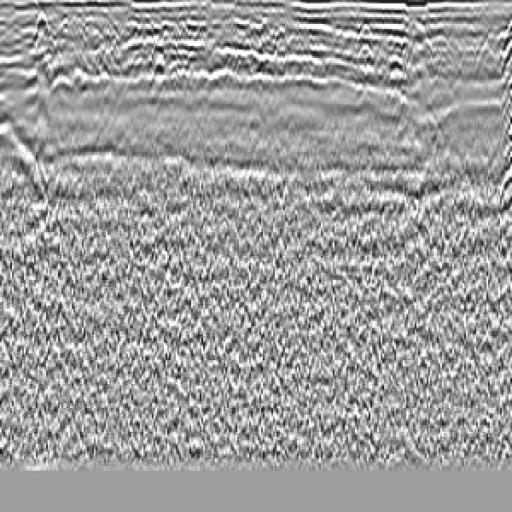metalic: (486, 7, 512, 285)
